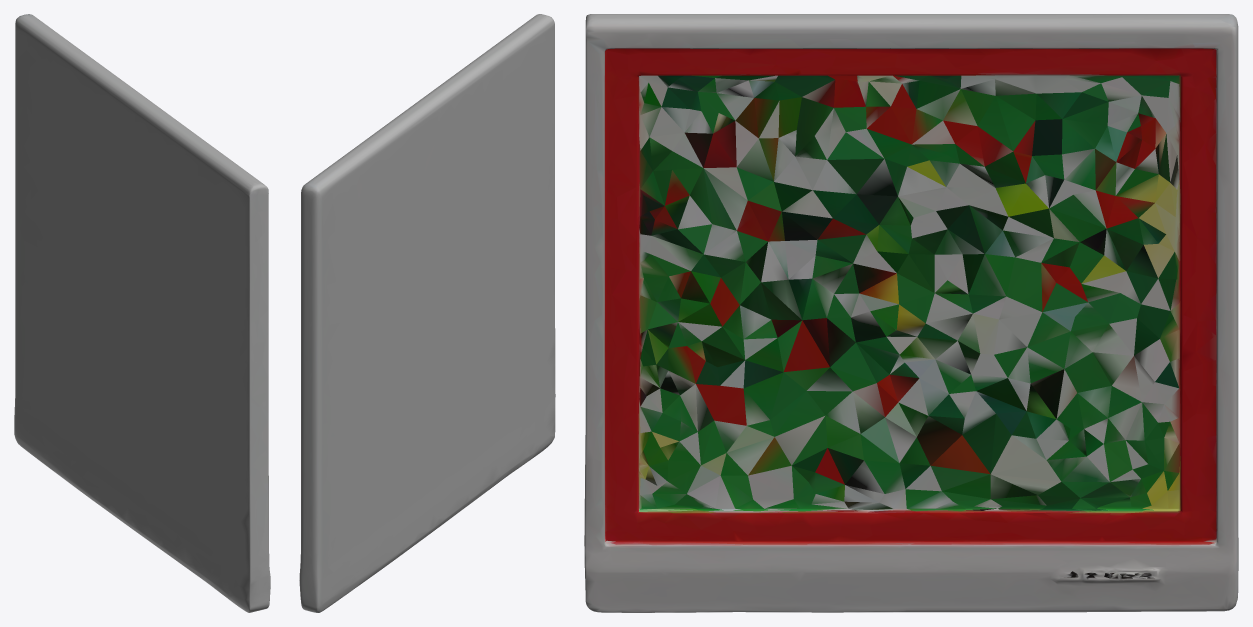
File: 色盲测试卡.glb
3 views of the same model, side by side, from view 1: azimuth 30°, elevation 25°; view 2: azimuth 150°, elevation 25°; view 3: azimuth 270°, elevation 25° (orthographic). The views are drawn at different scales.
Visible parts, largest first — view 1: tmpxb6gfwm1_simplified; view 2: tmpxb6gfwm1_simplified; view 3: tmpxb6gfwm1_simplified.
Boxes of the visible parts, box(x1,y1,x2,y2) form: tmpxb6gfwm1_simplified: box(14, 14, 270, 612); tmpxb6gfwm1_simplified: box(299, 14, 555, 612); tmpxb6gfwm1_simplified: box(584, 14, 1238, 612).
Size of the model in its own units: 0.0558 by 0.9976 by 0.9999.
1 material, 1 textured.
